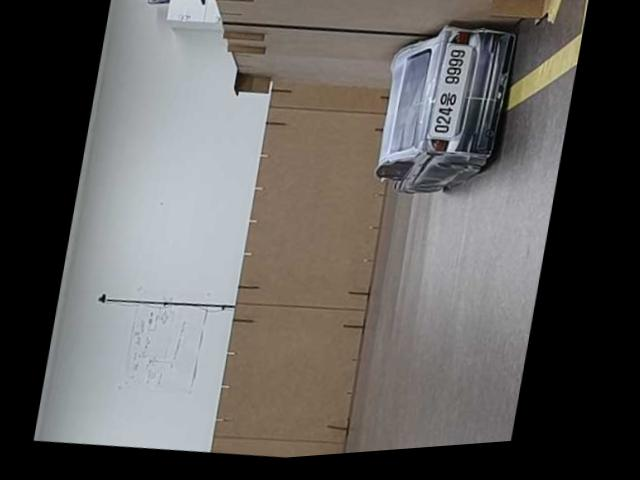car: (362, 6, 520, 214)
id: (423, 39, 480, 145)
